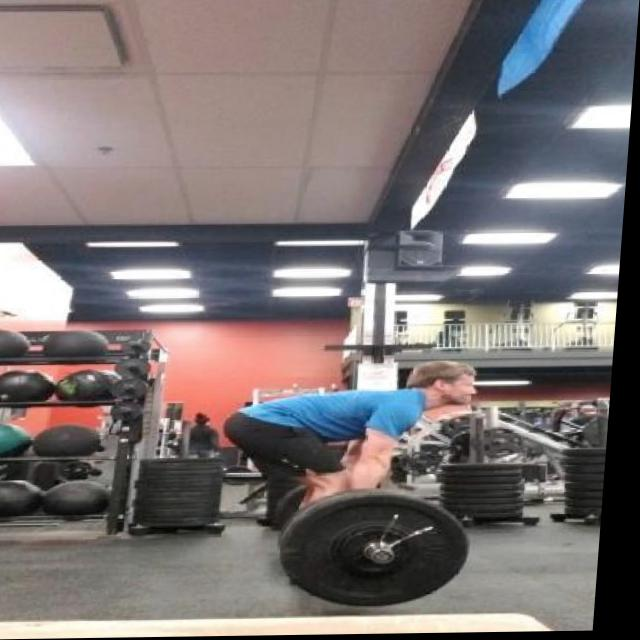barbell: (279, 485, 488, 623)
